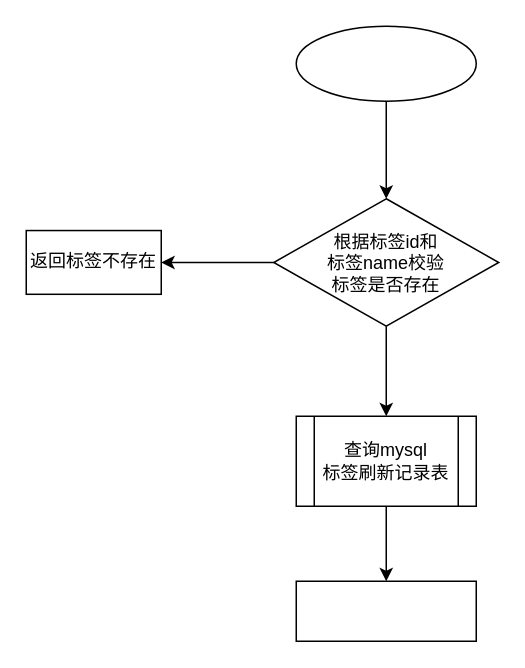
This 525x668 diagram has some shape labels left out. The box of each missing label's shape, as (x1, y1, x2, y2) in pixels:
封装根据时间倒序返回数据: (295, 580, 476, 641)
标签刷新记录查询: (295, 25, 476, 101)
